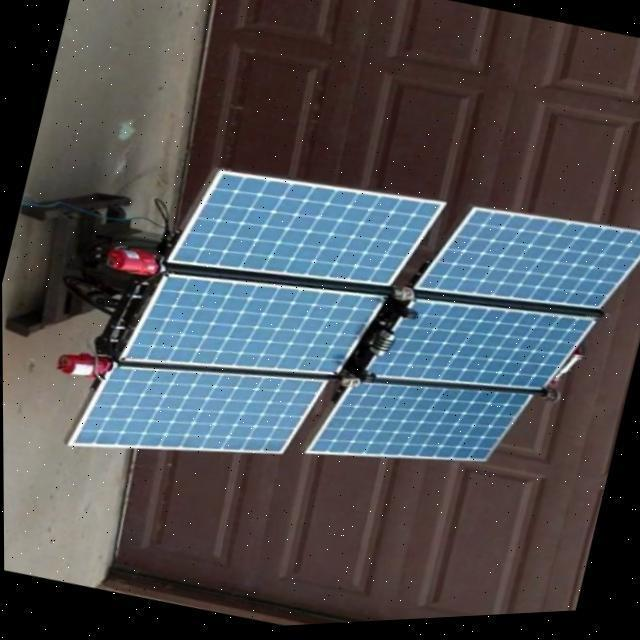Normal Solar Panel: (166, 145, 444, 323), (118, 242, 382, 418), (65, 328, 325, 503), (415, 187, 640, 347), (367, 274, 596, 428), (304, 350, 530, 504)
